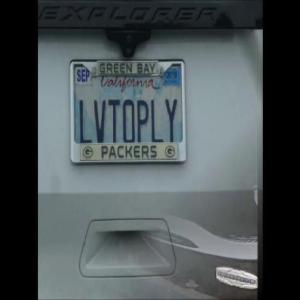Plate: (72, 60, 188, 164)
